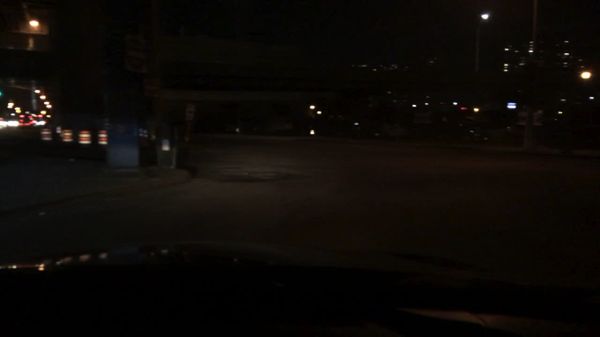car: (459, 113, 518, 143), (372, 123, 407, 140)
traffic sign: (126, 35, 145, 71), (145, 79, 159, 96), (186, 104, 195, 122)
